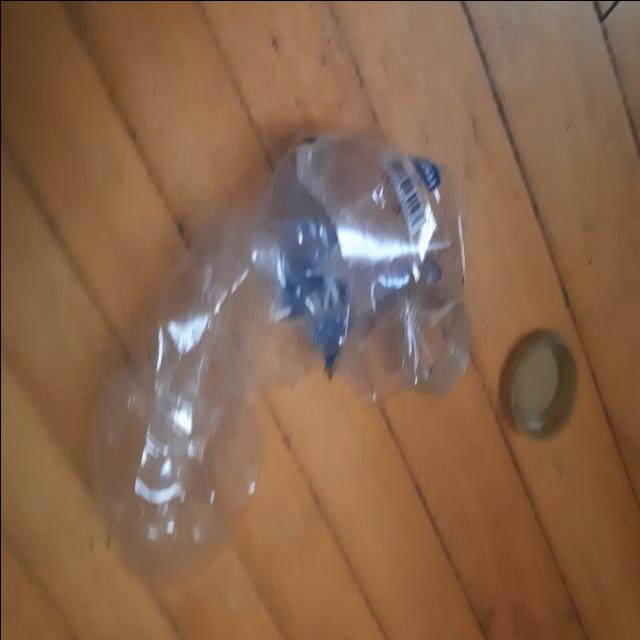Plastic: (90, 133, 470, 585)
